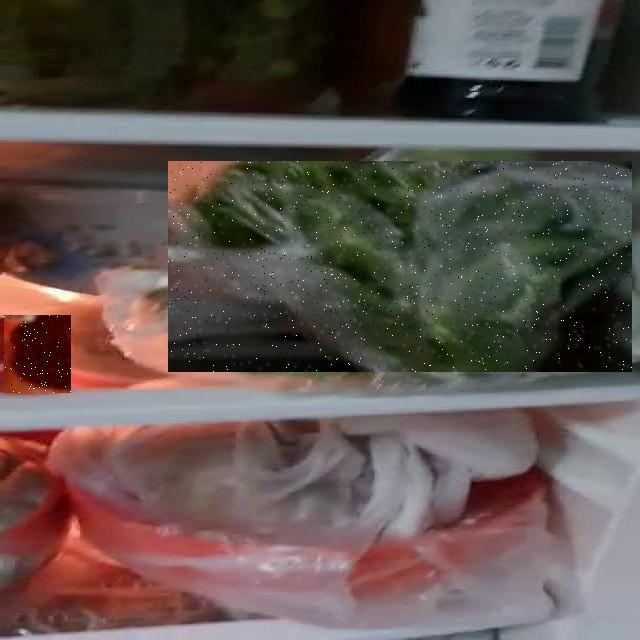Lettuce: (168, 161, 632, 372)
Tomato Paste: (4, 315, 71, 393)
